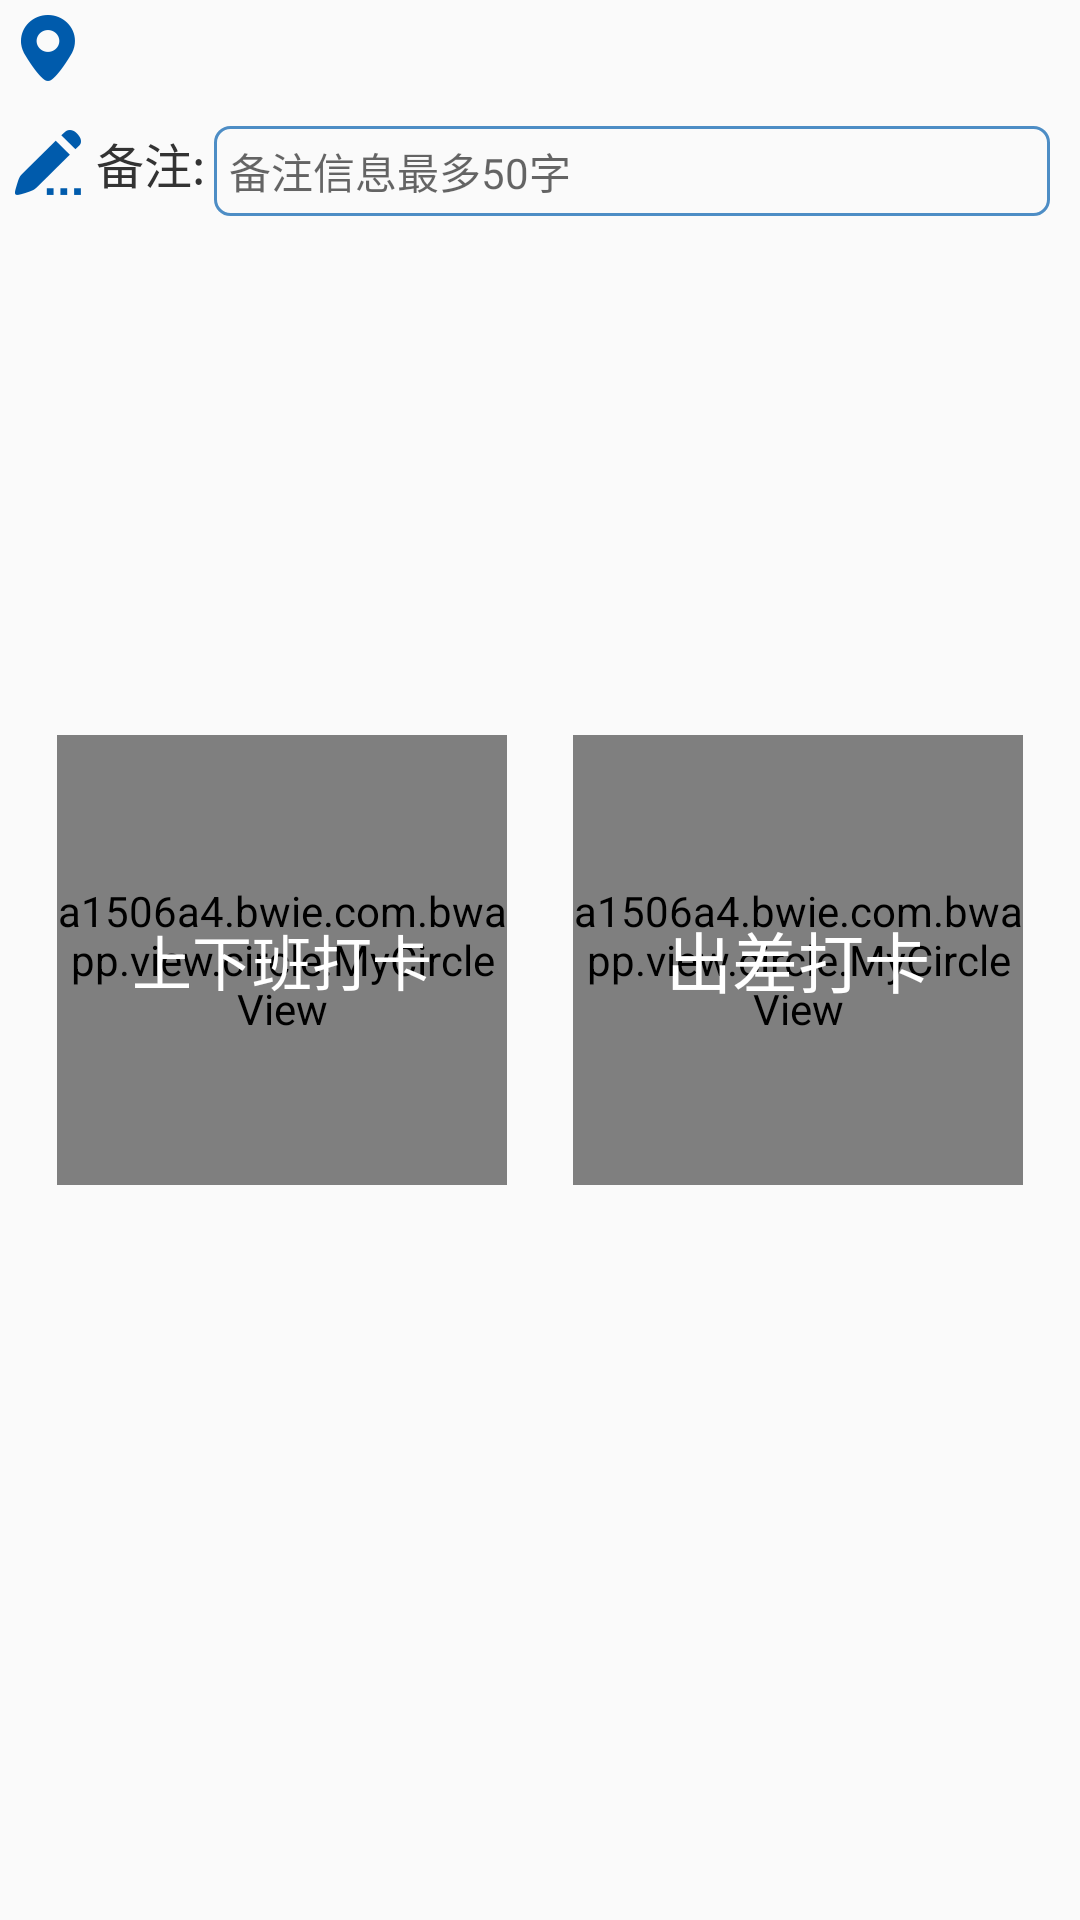

Where to tap for icons on this 1080px x 1920px app screen, as [x,y]:
daka dingwei: [48,48]
